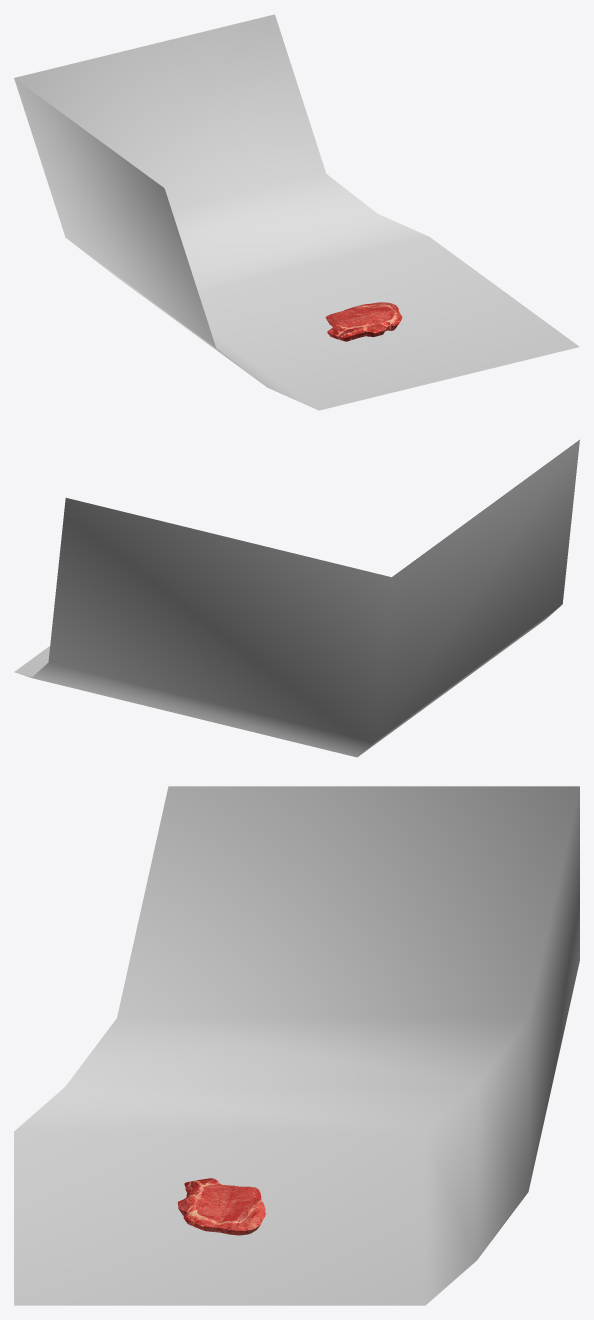
File: raw_meat.dae
The picture shows the model from 3 angles, top to bottom: view 1: azimuth 30°, elevation 25°; view 2: azimuth 150°, elevation 25°; view 3: azimuth 270°, elevation 25°; orthographic projection. The views are drawn at different scales.
Parts seen in each view (by area): view 1: Background, Raw_meat; view 2: Background; view 3: Background, Raw_meat.
Part boxes in pixels (<box>): Background: <box>14,14,579,410</box>; Raw_meat: <box>325,302,402,341</box>; Background: <box>14,439,579,757</box>; Background: <box>14,786,579,1305</box>; Raw_meat: <box>177,1178,265,1235</box>.
Size of the model in its own units: 21.99 by 21.99 by 12.
1 material, 1 textured.
